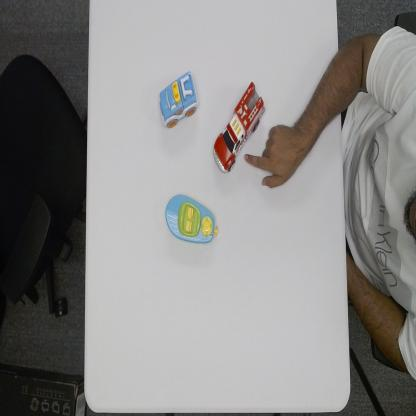Arm: (295, 47, 339, 163)
Boat: (165, 192, 220, 246)
Car: (158, 69, 199, 132)
Firetruck: (211, 81, 267, 174)
Hand: (243, 124, 296, 191)
